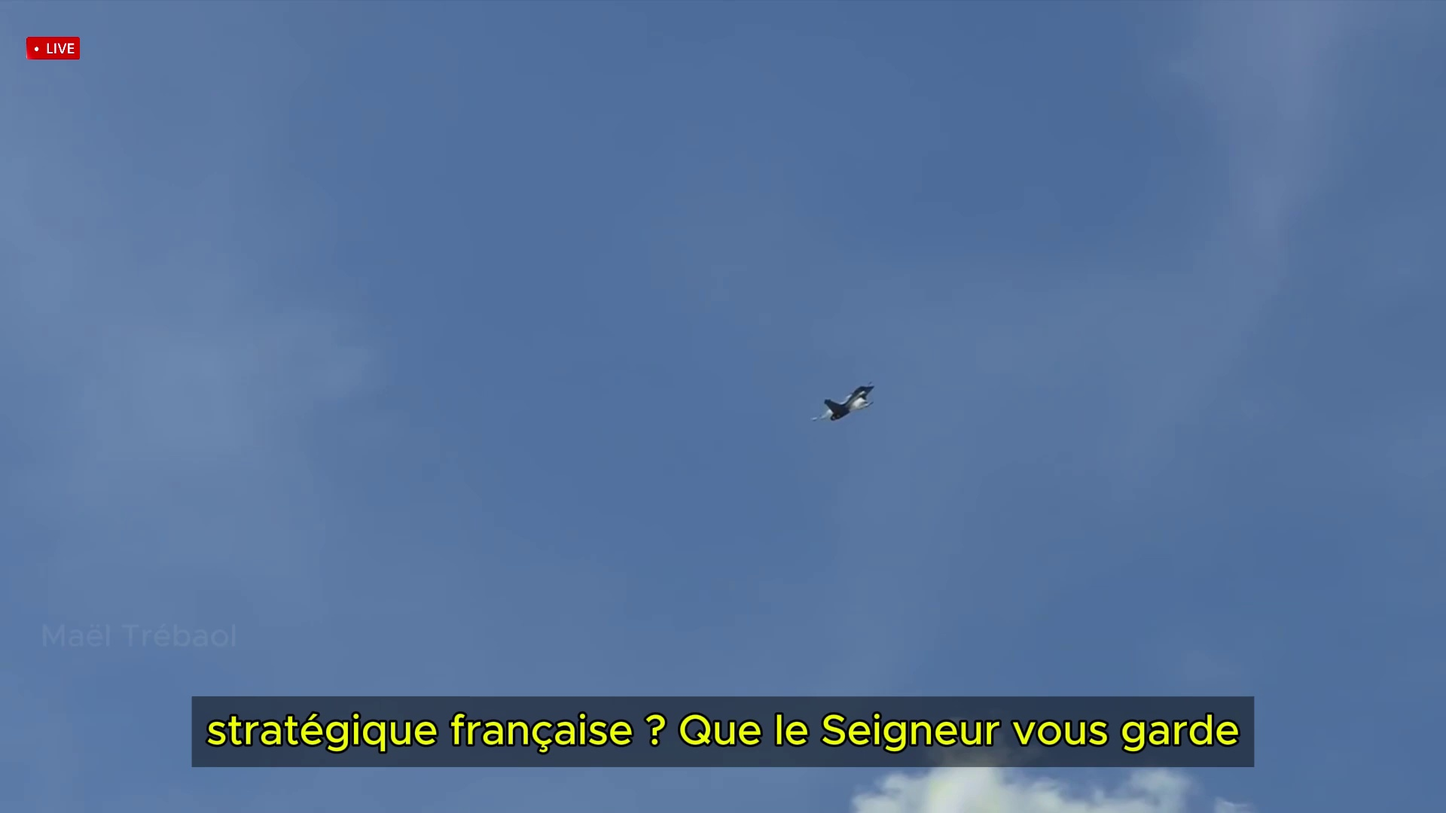Rafale: (815, 383, 876, 421)
